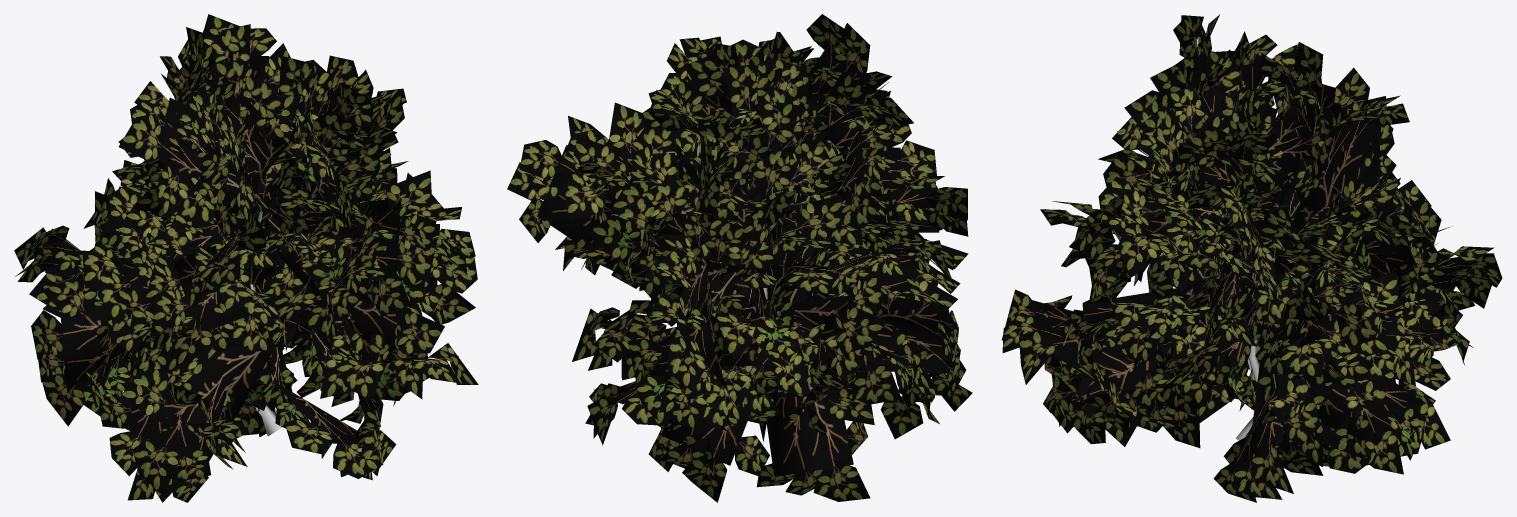
The model's file is Bush_Mediteranean.fbx.
3 views of the same model, side by side, from view 1: azimuth 30°, elevation 25°; view 2: azimuth 150°, elevation 25°; view 3: azimuth 270°, elevation 25° (orthographic).
Visible parts, largest first — view 1: Bush_Mediteranean_2; view 2: Bush_Mediteranean_2; view 3: Bush_Mediteranean_2.
Boxes of the visible parts, x1,y1,x2,y2 form: Bush_Mediteranean_2: (14, 14, 478, 502); Bush_Mediteranean_2: (507, 14, 972, 502); Bush_Mediteranean_2: (1001, 14, 1502, 502).
Size of the model in its own units: 173 by 185 by 183.
